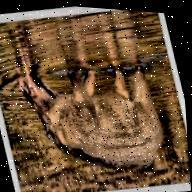boar: (7, 40, 173, 188)
